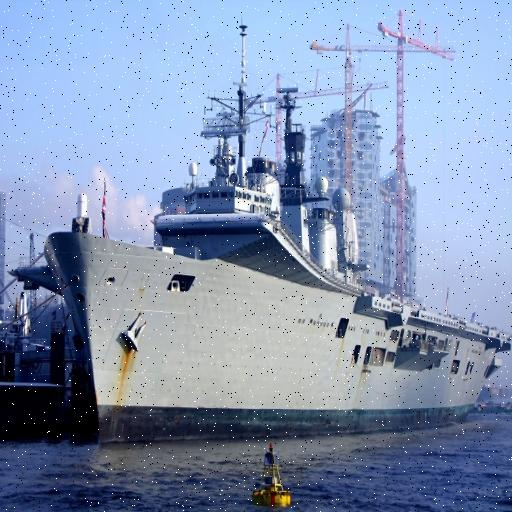Portanaves: (39, 17, 512, 456)
